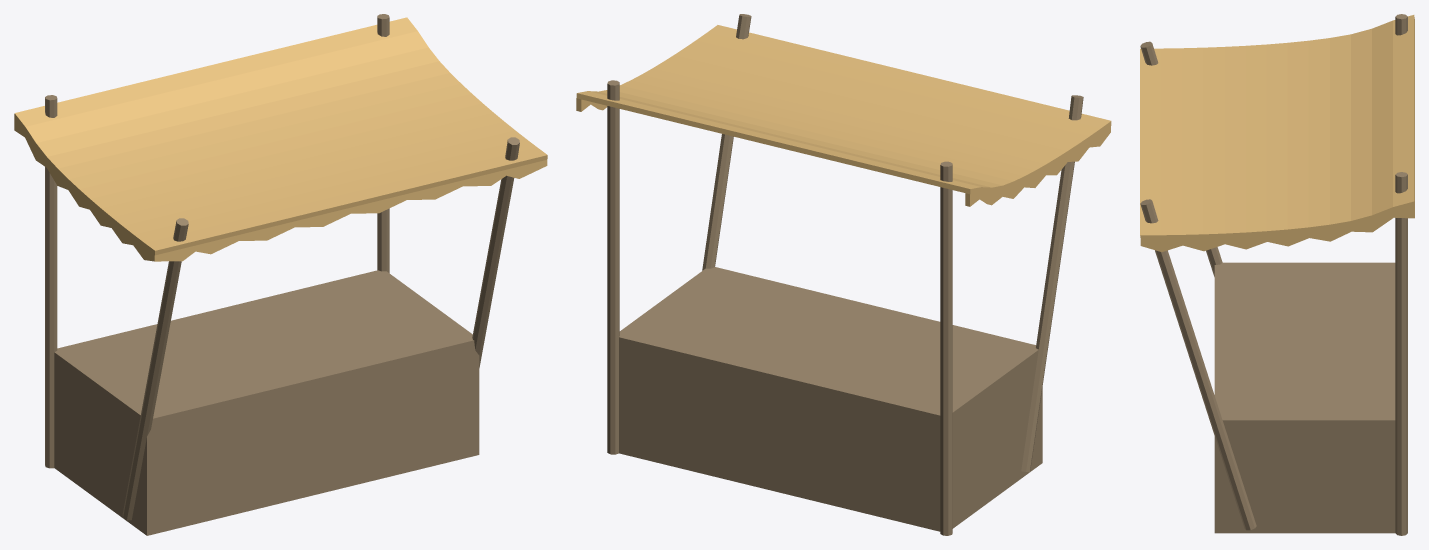
The model's file is Shop.fbx.
3 views of the same model, side by side, from view 1: azimuth 30°, elevation 25°; view 2: azimuth 150°, elevation 25°; view 3: azimuth 270°, elevation 25° (orthographic). The views are drawn at different scales.
Visible parts, largest first — view 1: Shop; view 2: Shop; view 3: Shop.
Part boxes in pixels (<box>): Shop: <box>14,14,547,535</box>; Shop: <box>576,14,1111,535</box>; Shop: <box>1140,14,1414,535</box>.
Bounding box in the file's own units: 577 × 517 × 359.
